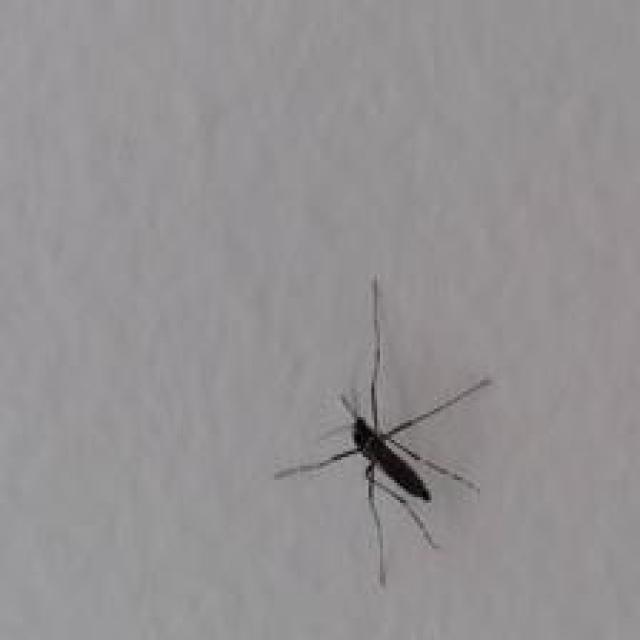Aedes albopictus: (273, 273, 493, 587)
